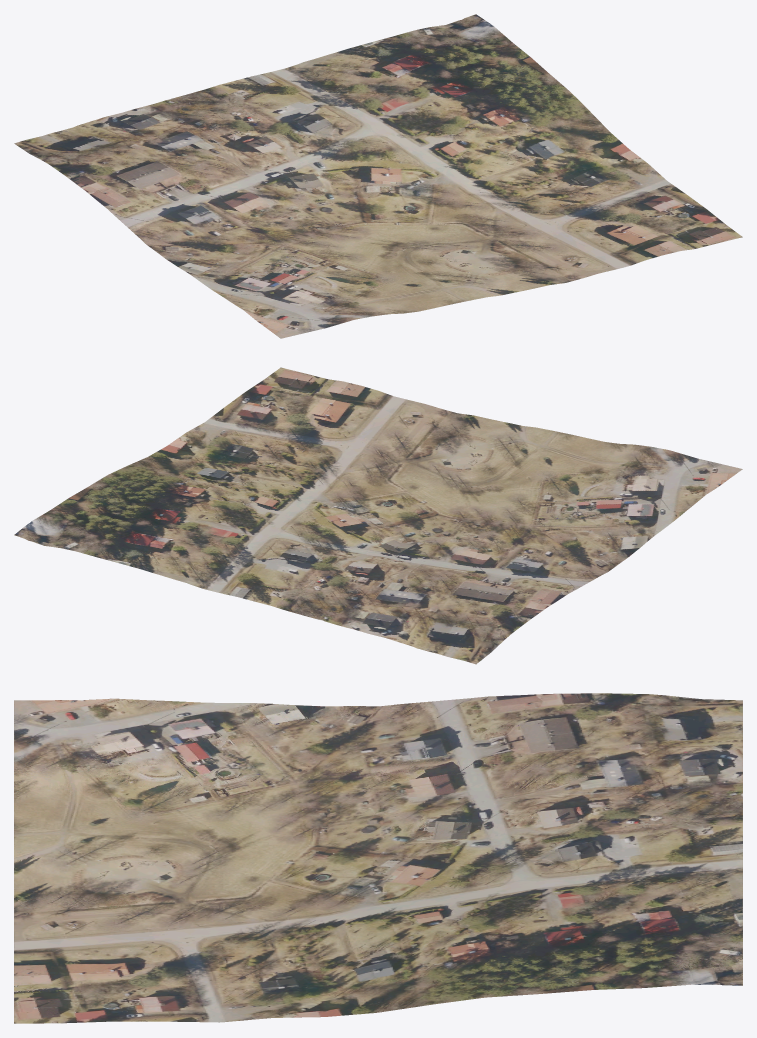
The model's file is CM_Terrain_24491073_6821227.fbx.
The picture shows the model from 3 angles, top to bottom: view 1: azimuth 30°, elevation 25°; view 2: azimuth 150°, elevation 25°; view 3: azimuth 270°, elevation 25°; orthographic projection. The views are drawn at different scales.
Visible parts, largest first — view 1: CM_Terrain_24491073_6821227_LOD0; view 2: CM_Terrain_24491073_6821227_LOD0; view 3: CM_Terrain_24491073_6821227_LOD0.
Part boxes in pixels (bbox=[...]): CM_Terrain_24491073_6821227_LOD0: bbox=[14, 14, 742, 338]; CM_Terrain_24491073_6821227_LOD0: bbox=[14, 367, 742, 664]; CM_Terrain_24491073_6821227_LOD0: bbox=[14, 693, 742, 1023].
Size of what is drawn, in the model's own units: 205 by 13.21 by 205.
